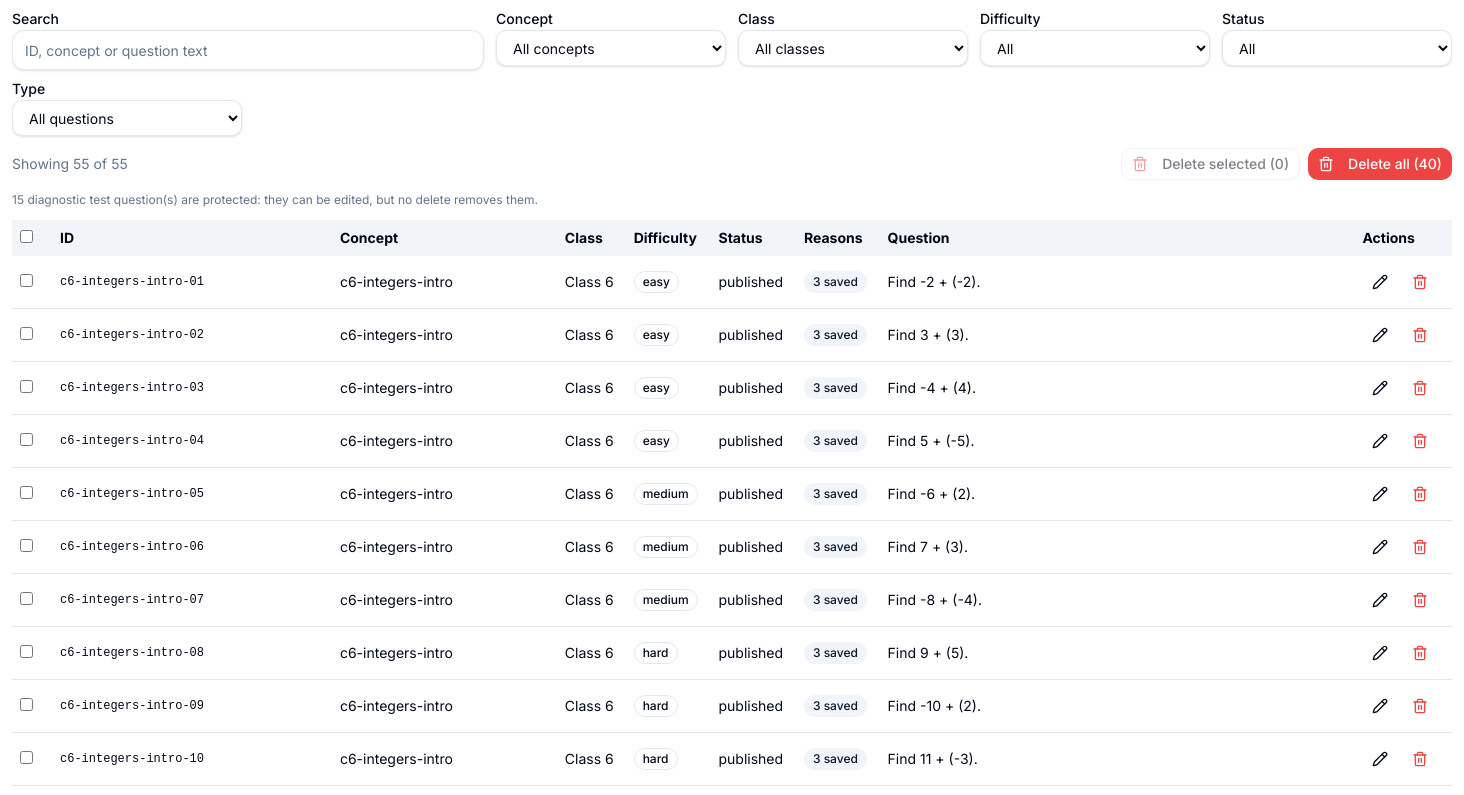
Test: question list bulk actions › clears the selection when the filters change
The width and height of the screenshot is (1464, 795).
Click the checkbox named "Select c6-integers-intro-01". click: coordinates (26, 280)
box: [20,274,33,287]
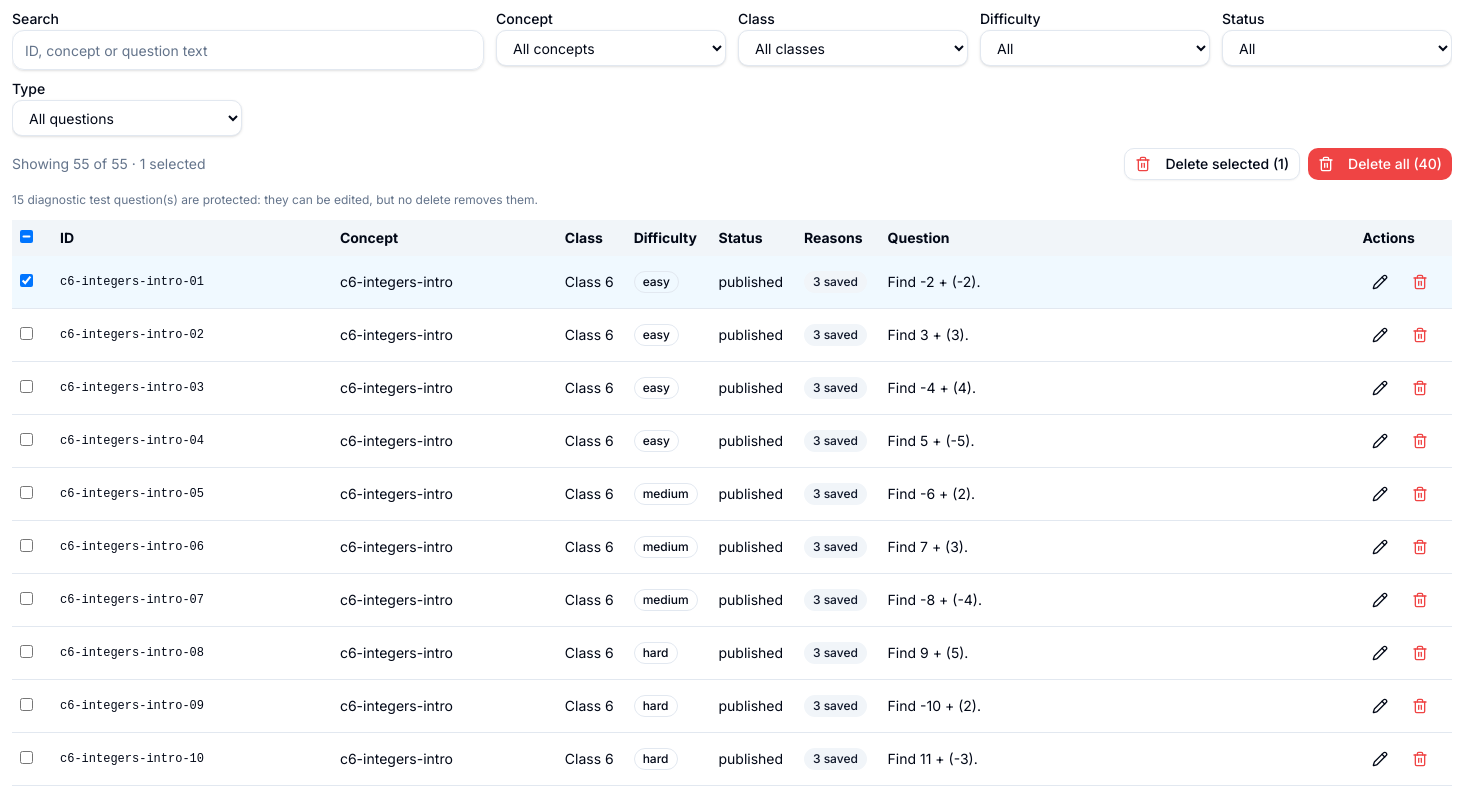
Check: the button "Delete selected (1)" is enabled, box [1124,148,1300,180]
Select "Hard" in the dropdown labelled "Difficulty". click: coordinates (1095, 48)
box: [980,30,1210,66]
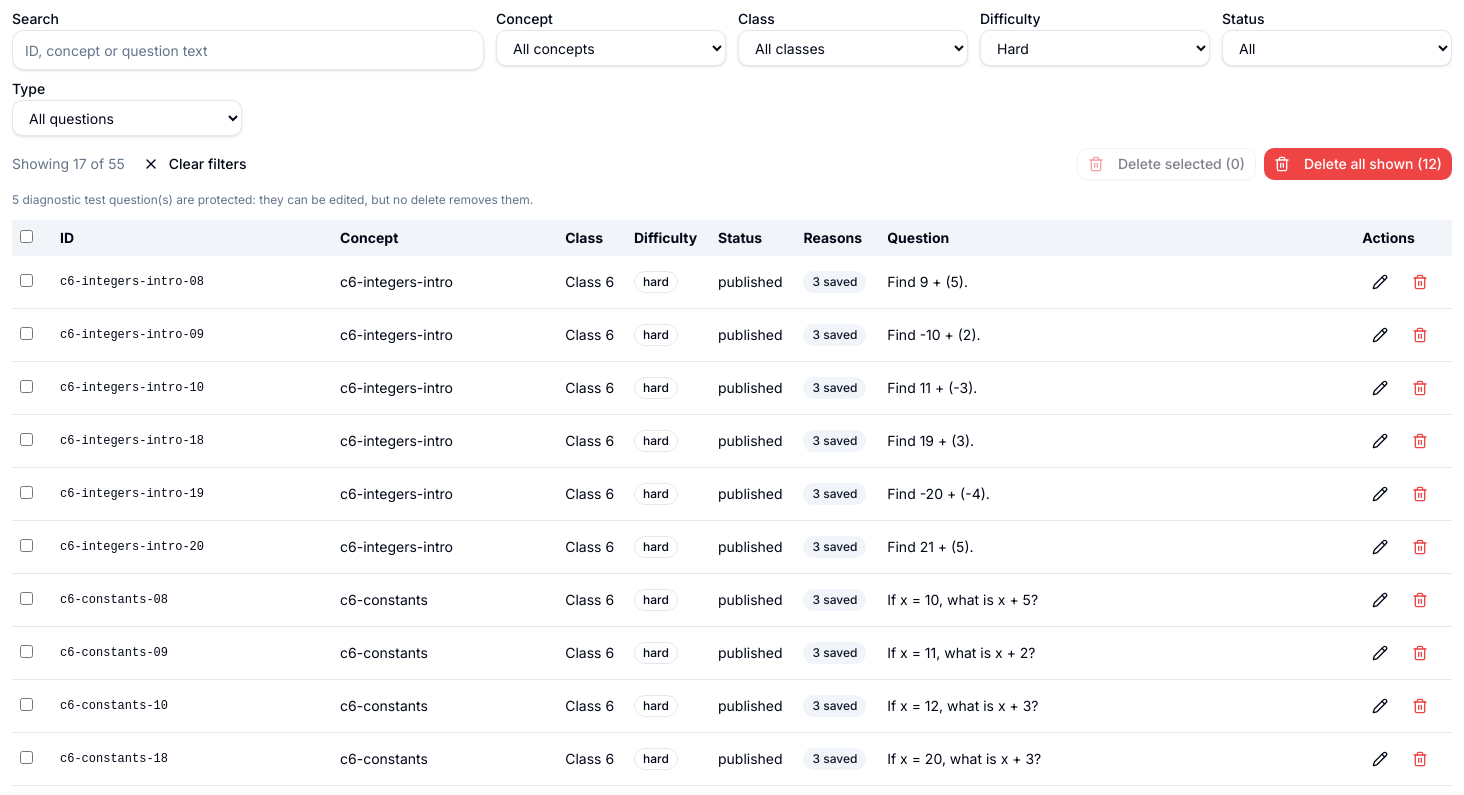
Check: the button "Delete selected (0)" is disabled, box [1077,148,1256,180]
